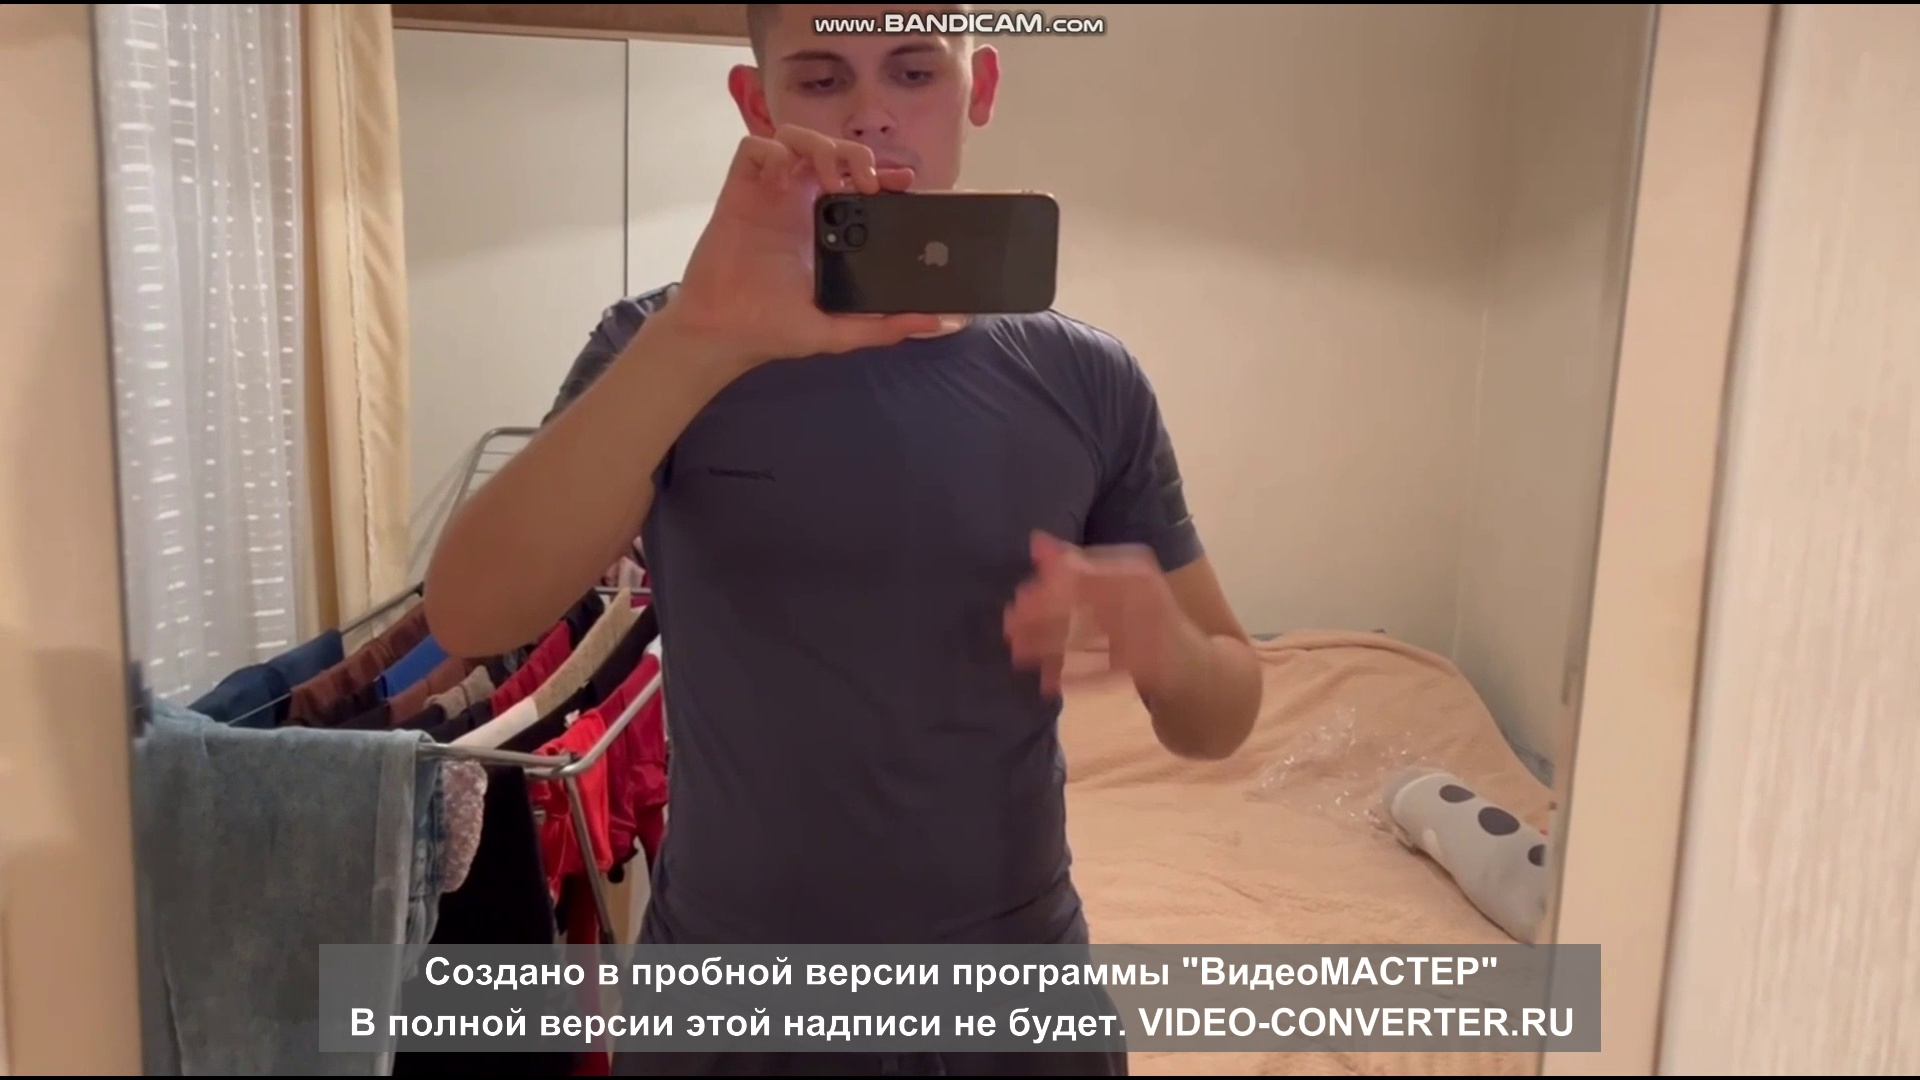Кисть: (1001, 514, 1176, 691)
